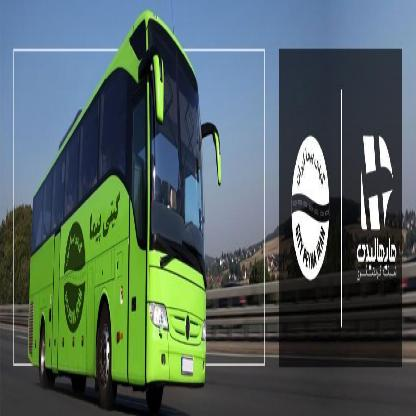Bus: (23, 9, 223, 402)
